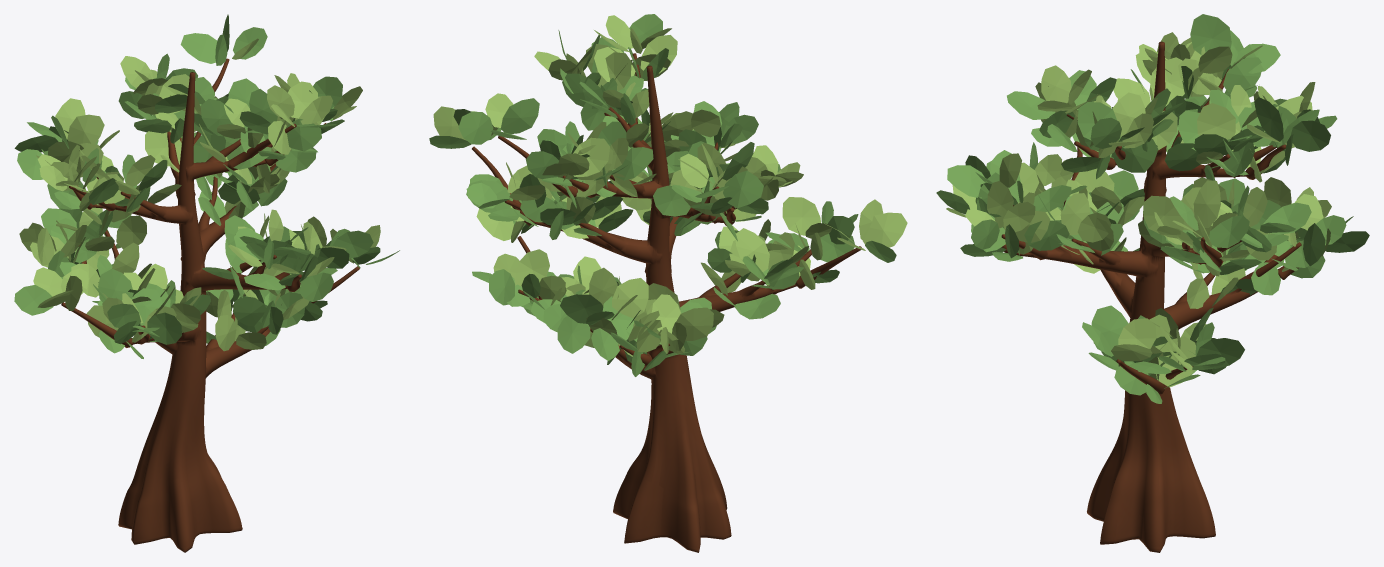
The model's file is Tree_Young_Upright_LOD1.fbx.
The picture shows the model from 3 angles, left to right: view 1: azimuth 30°, elevation 25°; view 2: azimuth 150°, elevation 25°; view 3: azimuth 270°, elevation 25°; orthographic projection. The views are drawn at different scales.
Visible parts, largest first — view 1: Tree_Young_Upright_Foliage_LOD1_FBX_Triangulated, Tree_Young_Upright_Bark_LOD1_FBX_Triangulated; view 2: Tree_Young_Upright_Foliage_LOD1_FBX_Triangulated, Tree_Young_Upright_Bark_LOD1_FBX_Triangulated; view 3: Tree_Young_Upright_Foliage_LOD1_FBX_Triangulated, Tree_Young_Upright_Bark_LOD1_FBX_Triangulated.
Part boxes in pixels (x1,y1,x2,y2): Tree_Young_Upright_Foliage_LOD1_FBX_Triangulated: (14,14,399,358); Tree_Young_Upright_Bark_LOD1_FBX_Triangulated: (61,58,359,552); Tree_Young_Upright_Foliage_LOD1_FBX_Triangulated: (429,14,907,376); Tree_Young_Upright_Bark_LOD1_FBX_Triangulated: (472,53,861,552); Tree_Young_Upright_Foliage_LOD1_FBX_Triangulated: (936,14,1369,403); Tree_Young_Upright_Bark_LOD1_FBX_Triangulated: (1001,41,1301,552).
Size of the model in its own units: 4.08 by 4.38 by 3.46.
